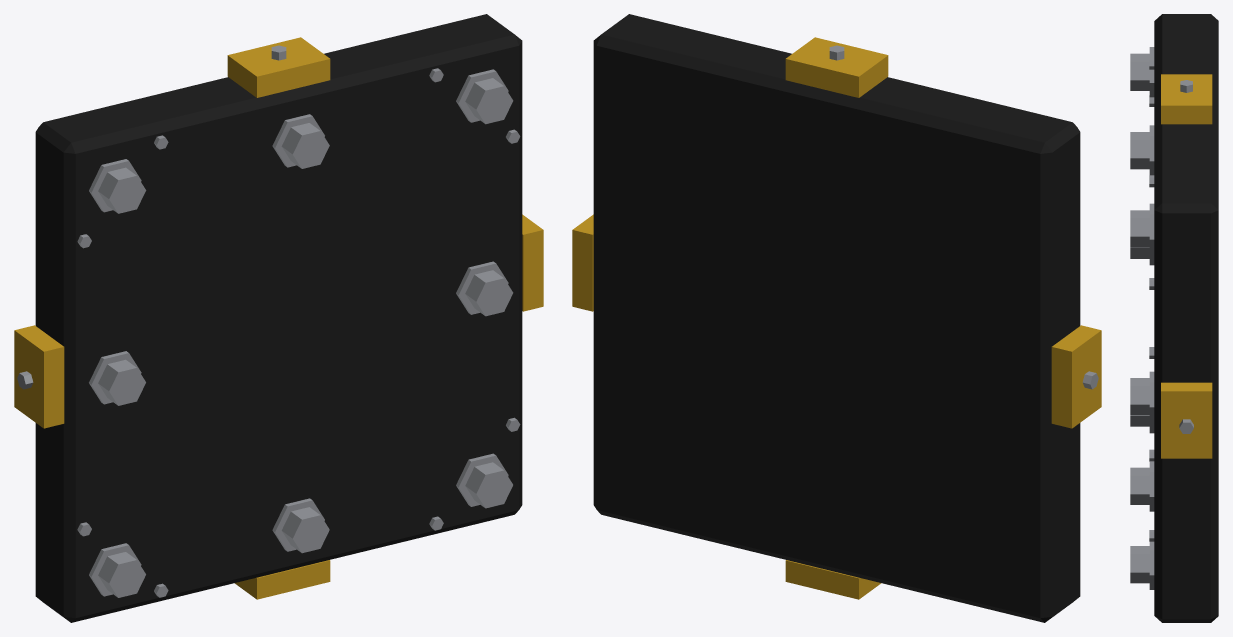
Rendered from trh_flange.obj.
3 views of the same model, side by side, from view 1: azimuth 30°, elevation 25°; view 2: azimuth 150°, elevation 25°; view 3: azimuth 270°, elevation 25° (orthographic). The views are drawn at different scales.
Visible parts, largest first — view 1: trh_flange; view 2: trh_flange; view 3: trh_flange.
Part boxes in pixels (x1=…): trh_flange: x1=14, y1=14, x2=543, y2=622; trh_flange: x1=572, y1=14, x2=1101, y2=622; trh_flange: x1=1130, y1=14, x2=1218, y2=622.
Bounding box in the file's own units: 2.02 × 2.02 × 0.3445.
